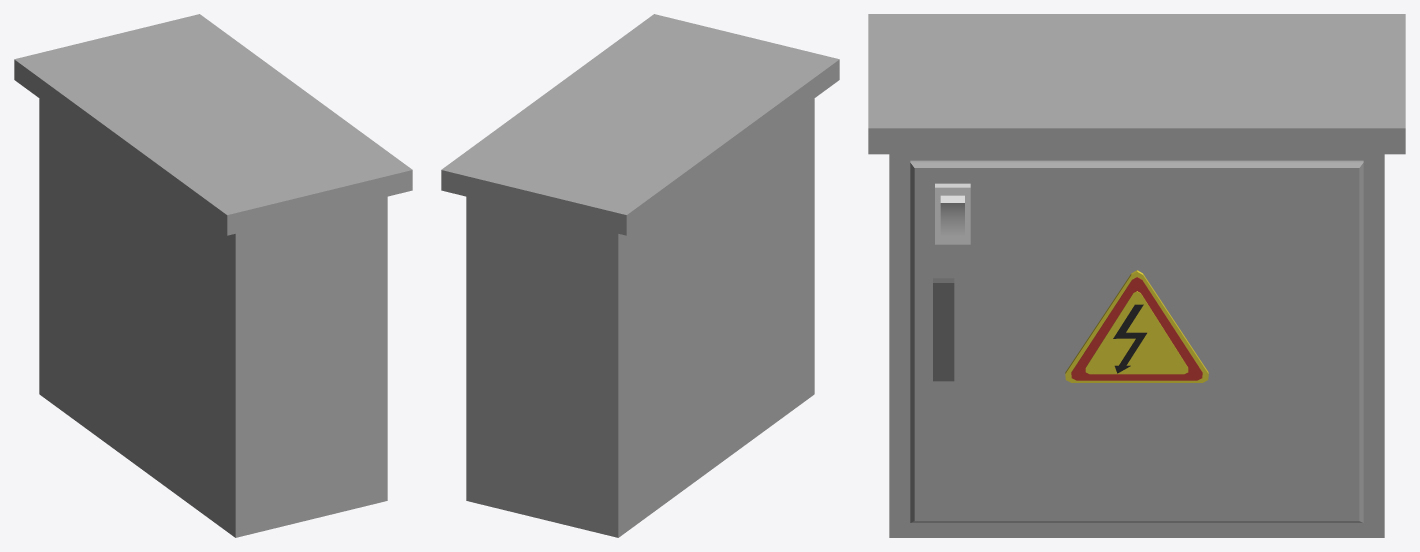
File: Elektriciteitskast.fbx
3 views of the same model, side by side, from view 1: azimuth 30°, elevation 25°; view 2: azimuth 150°, elevation 25°; view 3: azimuth 270°, elevation 25° (orthographic). The views are drawn at different scales.
Visible parts, largest first — view 1: pCube1; view 2: pCube1; view 3: pCube1, pCube5, pCube4, pCube2, pCube3, Lightswitch:pCube238, Lightswitch:pCube239, pCube12.
Boxes of the visible parts, x1,y1,x2,y2 form: pCube1: (14,14,412,537); pCube1: (441,14,839,537); pCube1: (868,14,1405,537); pCube5: (1085,291,1188,374); pCube4: (1071,277,1202,380); pCube2: (933,278,954,381); pCube3: (1065,270,1208,382); Lightswitch:pCube238: (935,183,970,244); Lightswitch:pCube239: (940,195,964,236); pCube12: (1113,304,1146,373).
Bounding box in the file's own units: 1.8 × 3.03 × 3.51.
